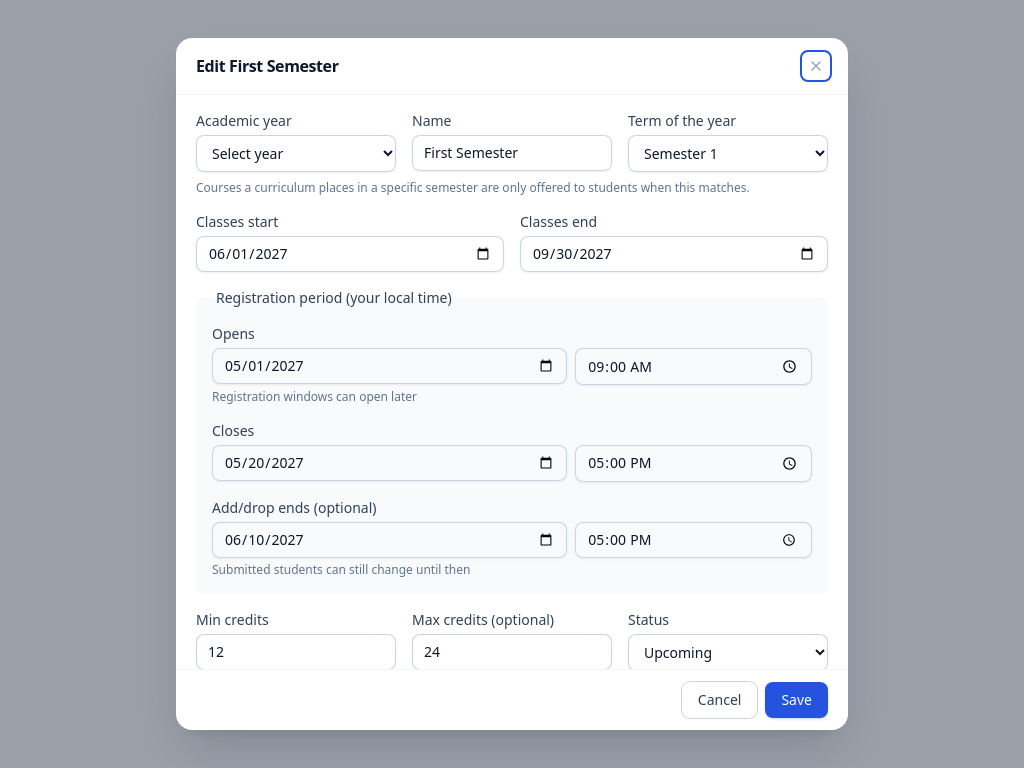
Semester form: registration period › asks for the time when only the date is filled, and does not save
The image size is (1024, 768).
Clear the time field named "Opens time" at (694, 367), box [575,348,812,385]
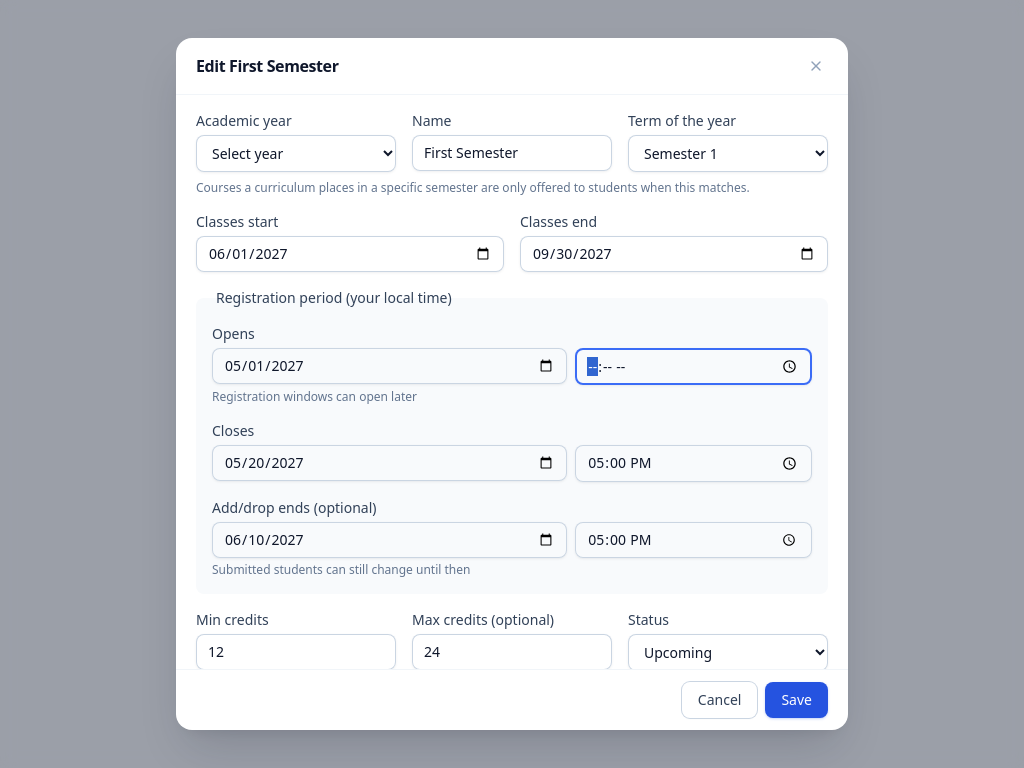
Click the button "Save".
click(797, 700)  # box [765,682,828,718]
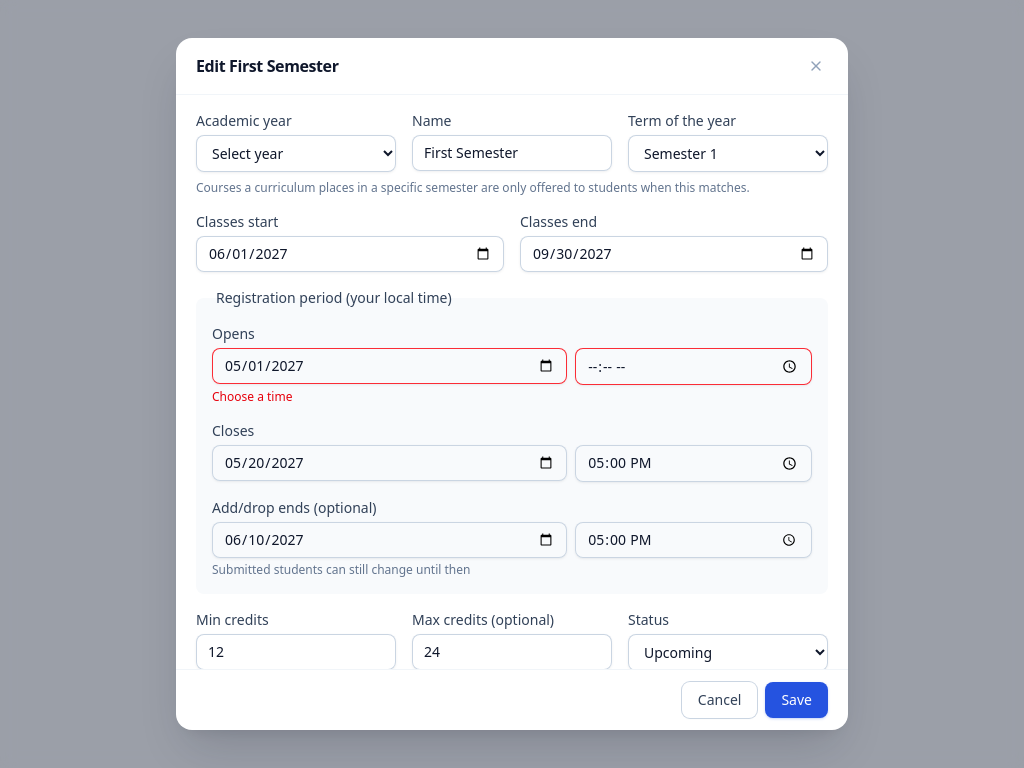
Check: the text "Choose a time" is shown, box [212,388,292,405]
